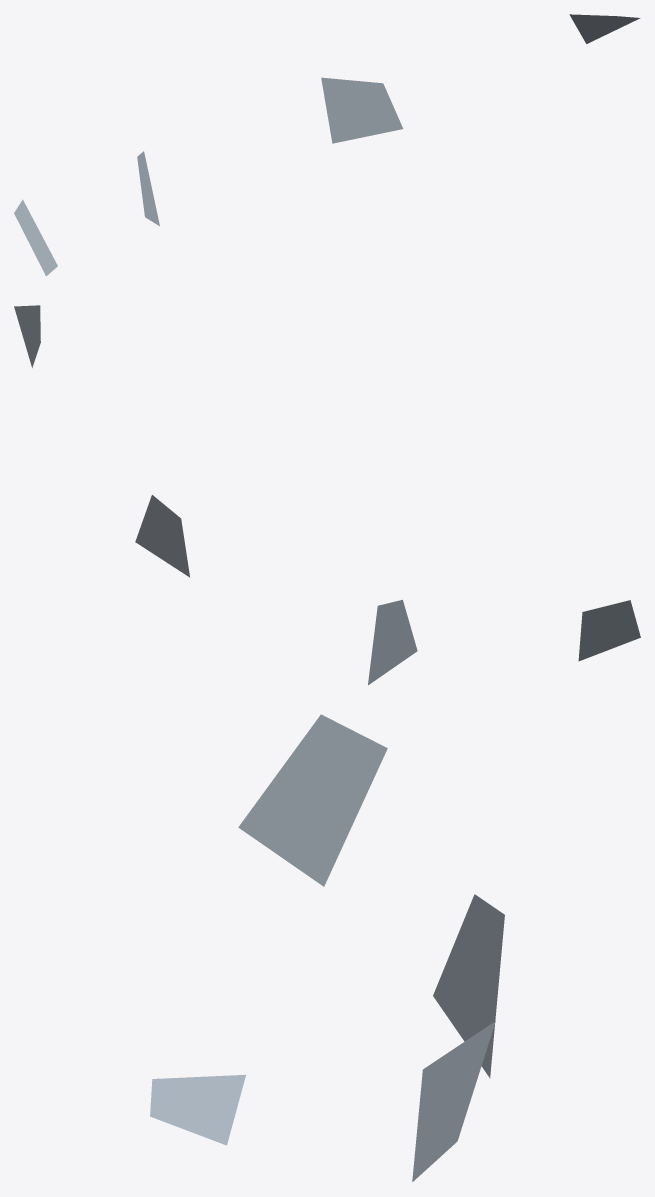
The model's file is dorsal-metacarpal-ligaments-l.glb.
3 views of the same model, one above another, from view 1: azimuth 30°, elevation 25°; view 2: azimuth 150°, elevation 25°; view 3: azimuth 270°, elevation 25° (orthographic). The views are drawn at different scales.
Visible parts, largest first — view 1: Dorsal metacarpal ligaments.l; view 2: Dorsal metacarpal ligaments.l; view 3: Dorsal metacarpal ligaments.l.
Part boxes in pixels (x1,y1,x2,y2): Dorsal metacarpal ligaments.l: (14,14,640,276); Dorsal metacarpal ligaments.l: (14,305,640,685); Dorsal metacarpal ligaments.l: (150,714,504,1181).
Bounding box in the file's own units: 0.0411 × 0.0122 × 0.0108.
